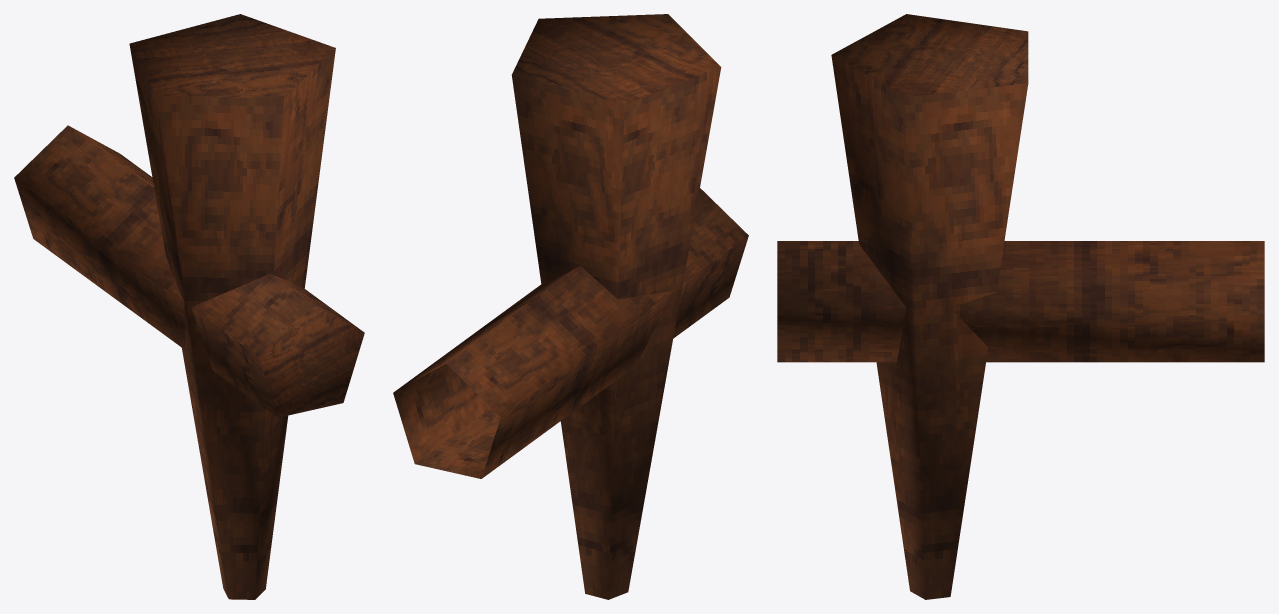
Rendered from TAP_ACTORDEF.fbx.
The picture shows the model from 3 angles, left to right: view 1: azimuth 30°, elevation 25°; view 2: azimuth 150°, elevation 25°; view 3: azimuth 270°, elevation 25°; orthographic projection.
Parts seen in each view (by area): view 1: U3DMesh; view 2: U3DMesh; view 3: U3DMesh.
Part boxes in pixels (left/top/right/bottom): U3DMesh: left=14, top=14, right=364, bottom=599; U3DMesh: left=393, top=14, right=748, bottom=599; U3DMesh: left=777, top=14, right=1264, bottom=599.
Size of the model in its own units: 0.7234 by 2.05 by 1.7.
